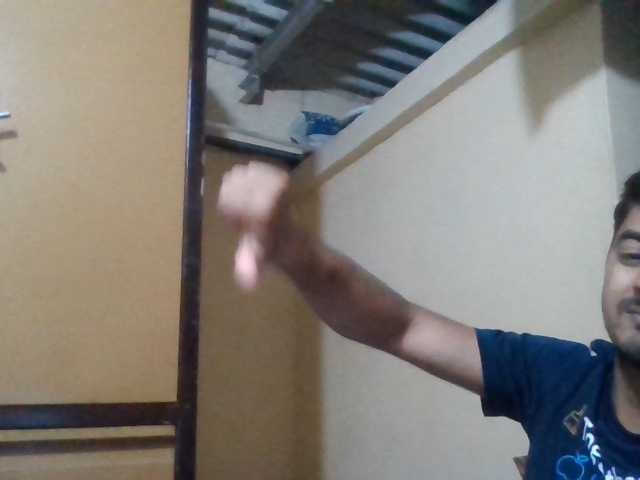ThumbsDown: (215, 161, 292, 295)
